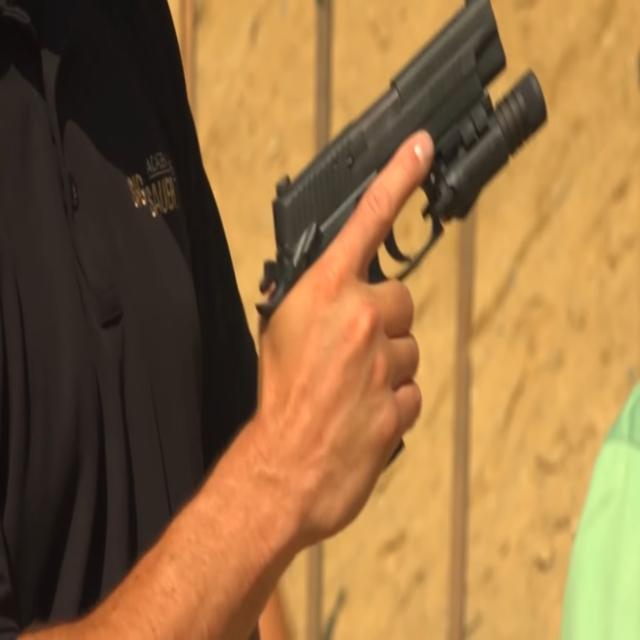Gun_Holder: (247, 0, 558, 504)
